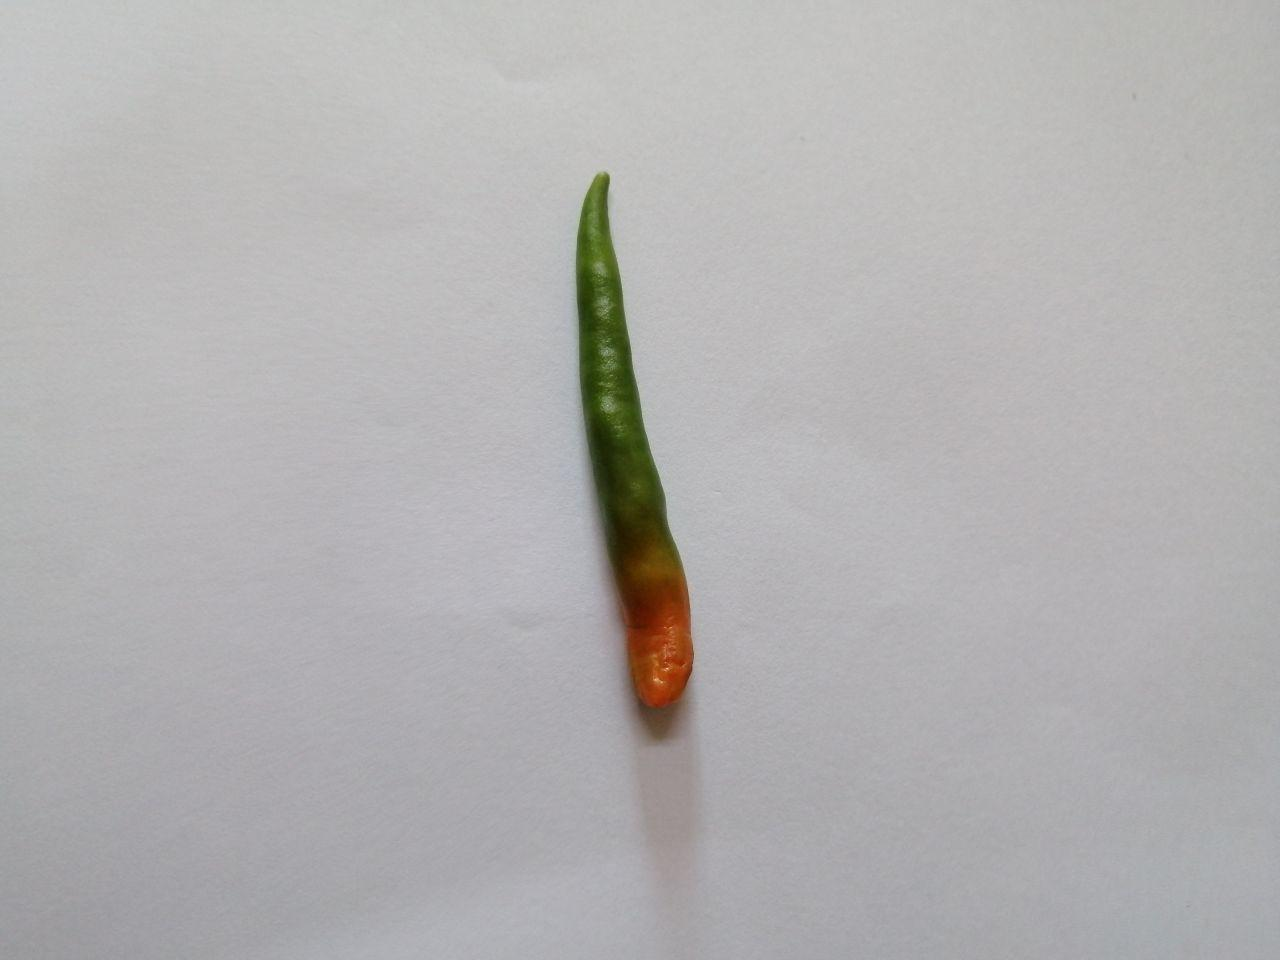lada hijau: (550, 150, 722, 718)
